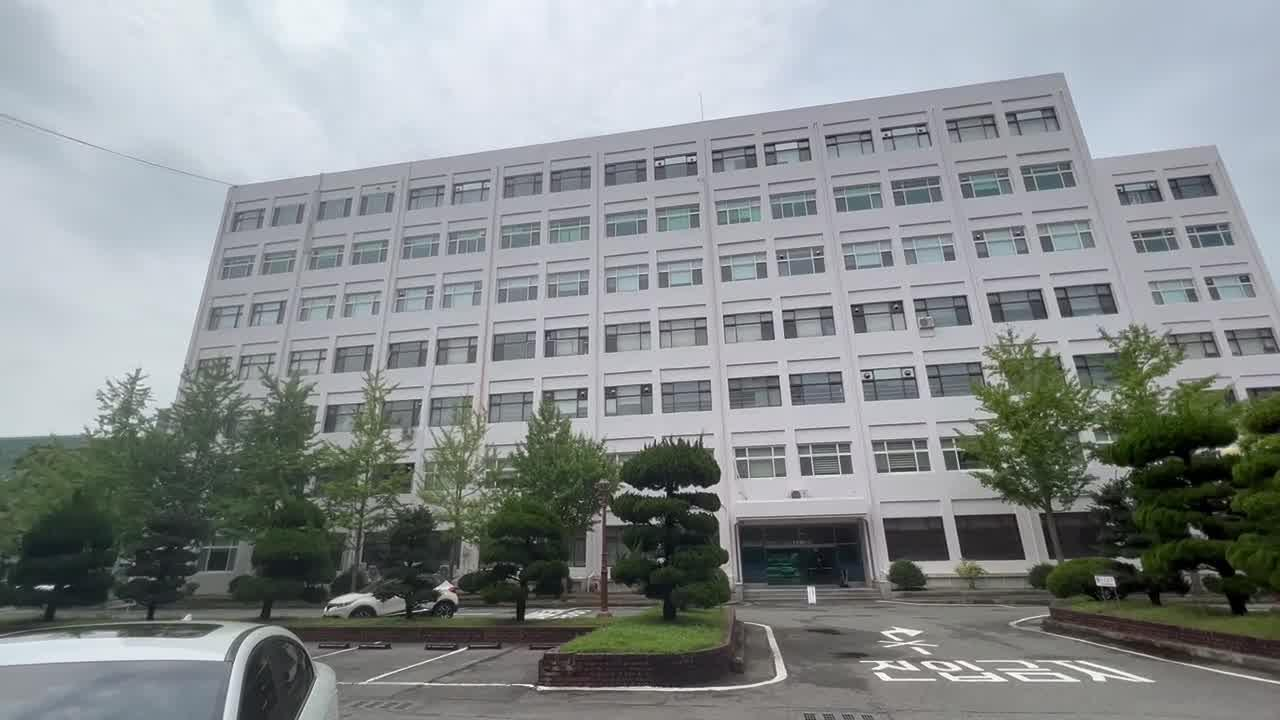building: (200, 128, 1114, 359)
